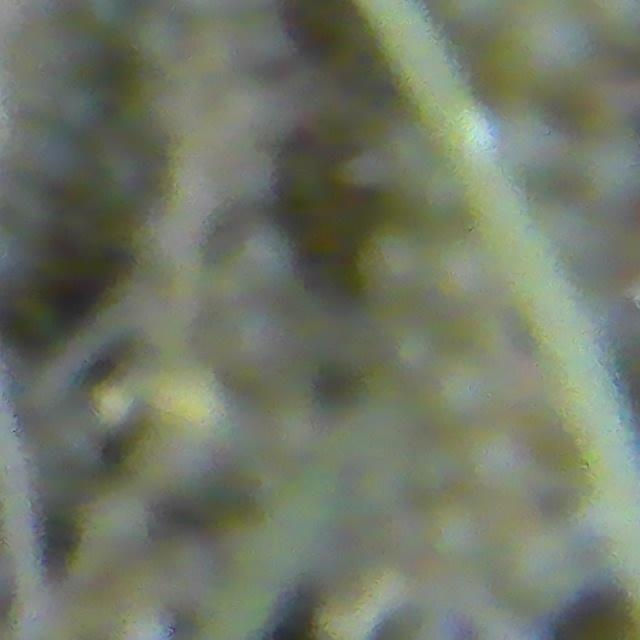SeaGrape: (492, 0, 589, 101), (427, 349, 506, 429), (578, 129, 640, 210), (426, 497, 493, 566), (464, 425, 529, 495)
